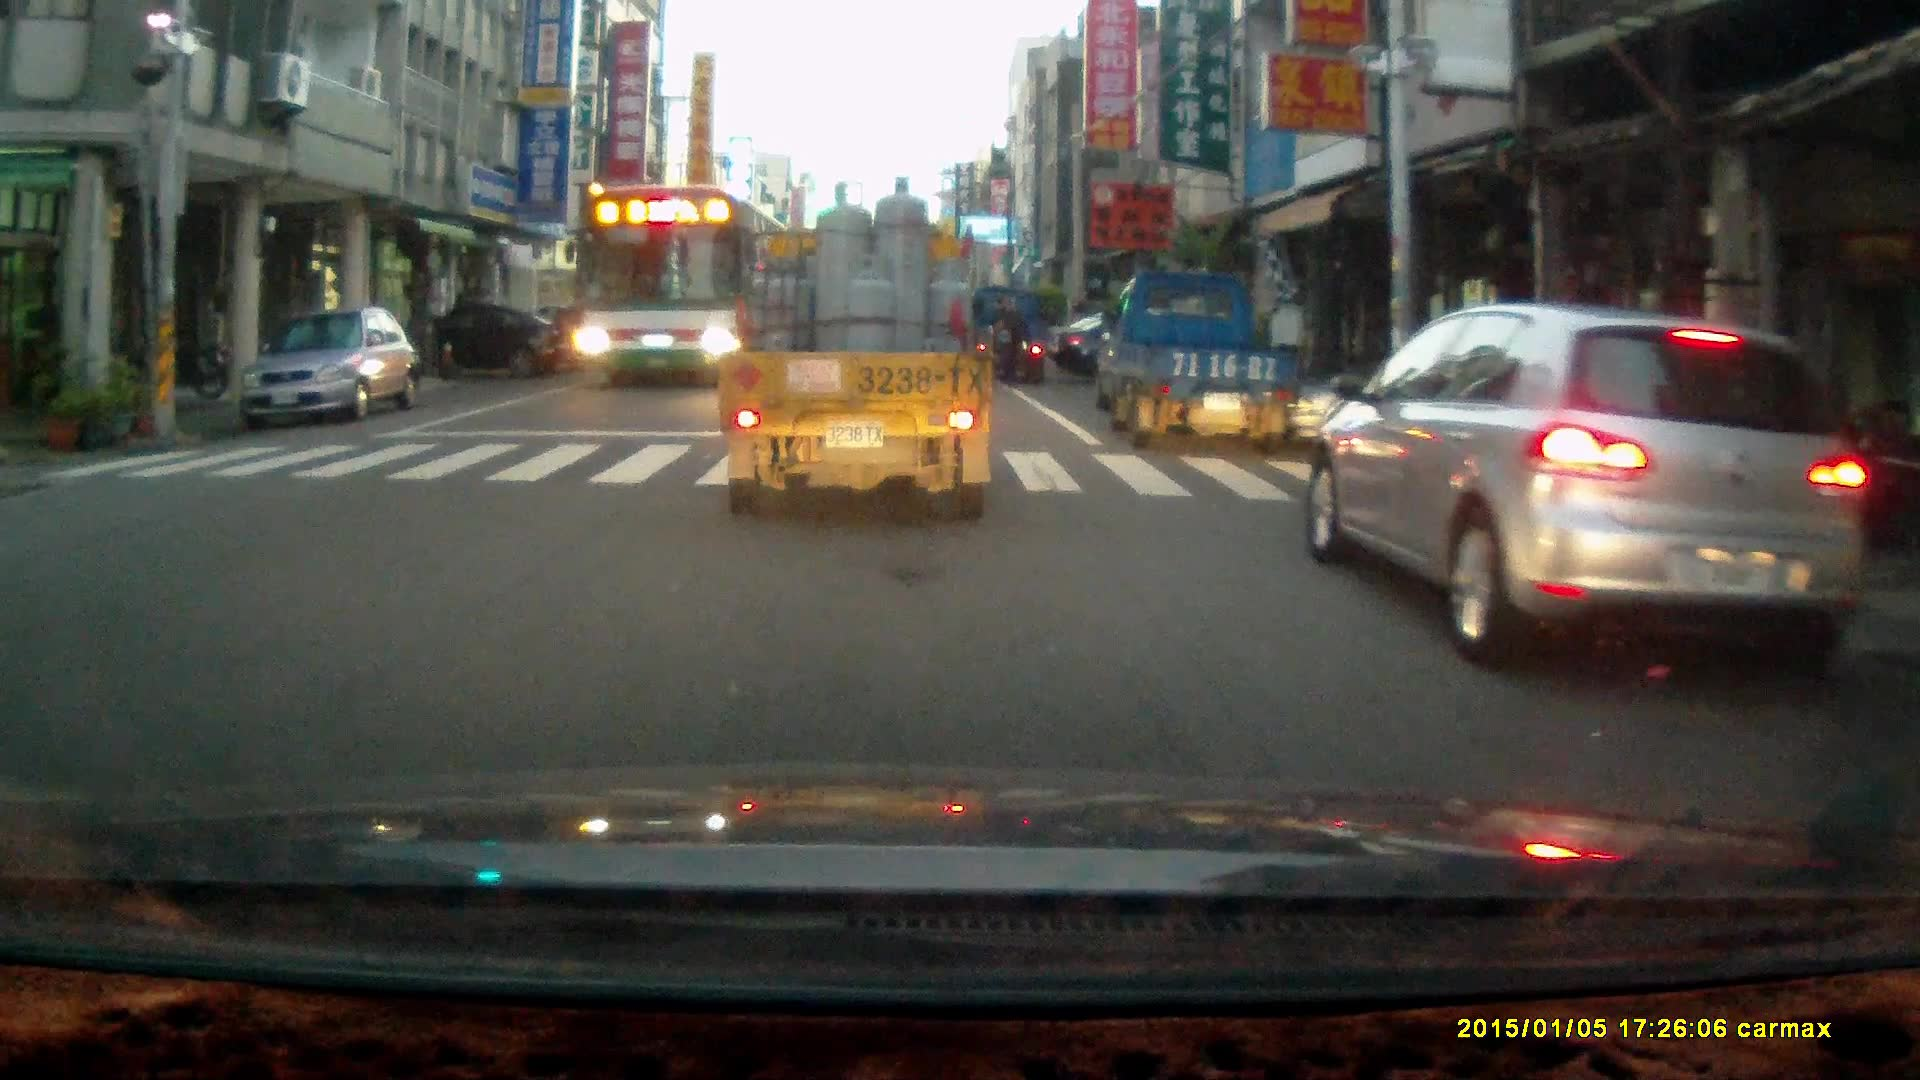pedestrian: (992, 288, 1032, 382)
vehicle: (1304, 297, 1860, 665), (723, 171, 998, 525), (567, 179, 777, 386), (1092, 262, 1296, 446), (230, 298, 423, 426), (399, 297, 570, 375), (969, 280, 1063, 387), (553, 293, 654, 365)
